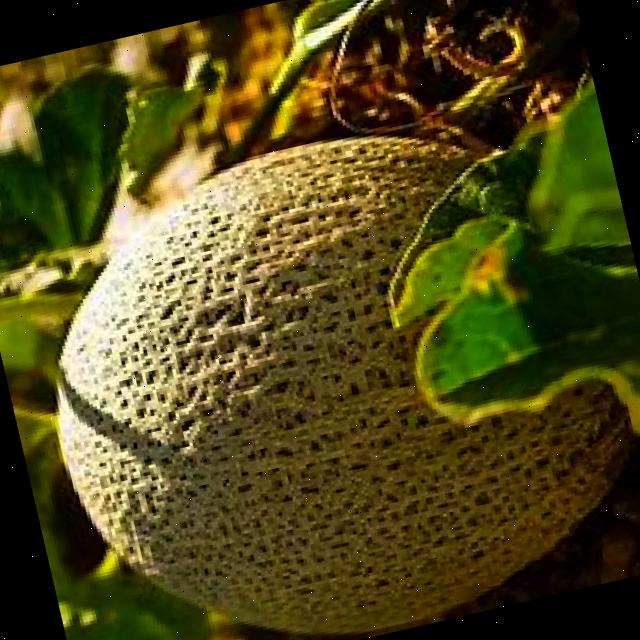Hami Melon: (4, 85, 640, 640)
